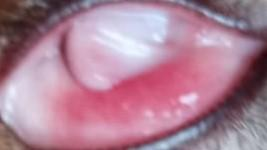eye_membrane: (2, 4, 263, 148)
